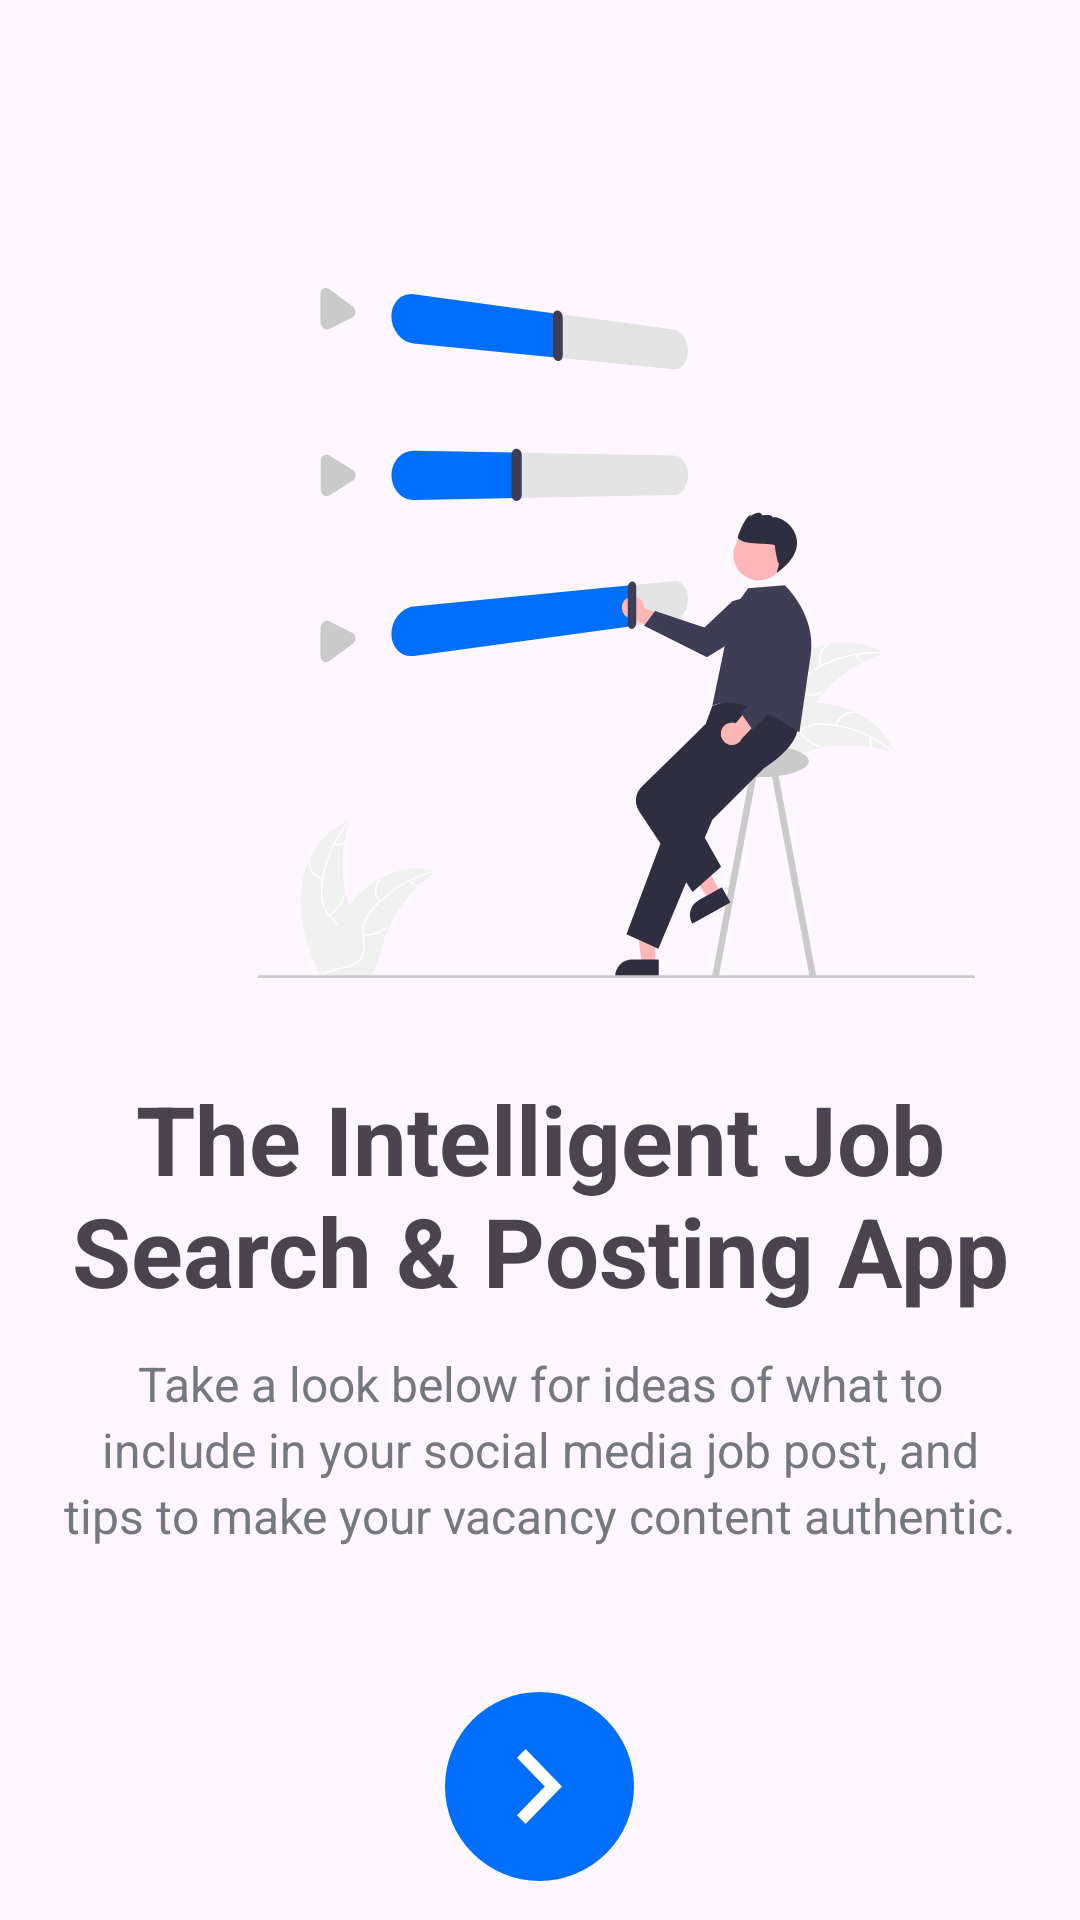

Screen size 1080px×1920px. Icon name, then its center in pixels as point (x, y):
next: point (539, 1786)
